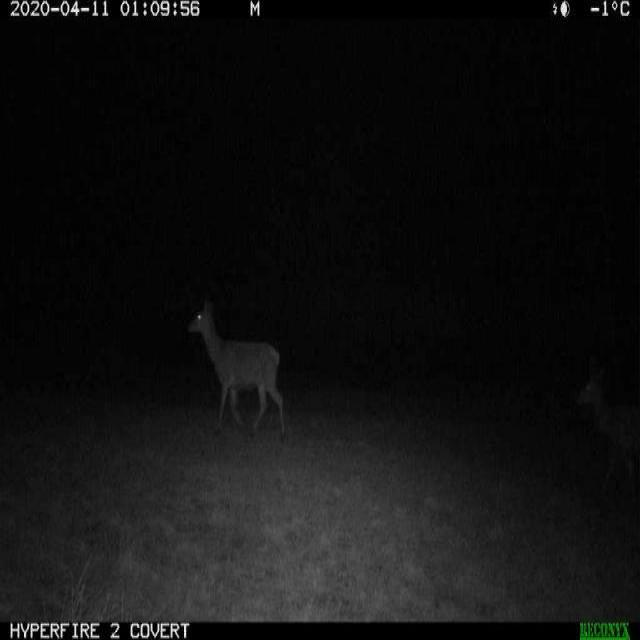deer: (178, 284, 294, 447)
